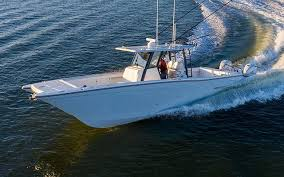boat: (21, 1, 257, 129)
